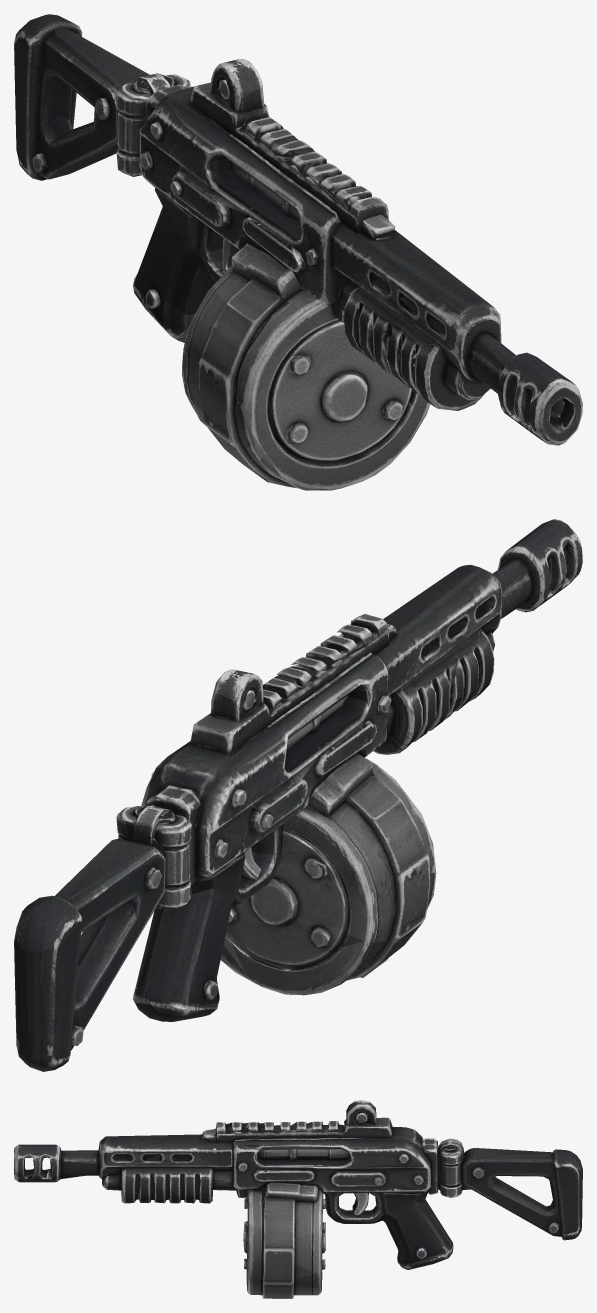
The model's file is gun_sweeper.glb.
The picture shows the model from 3 angles, top to bottom: view 1: azimuth 30°, elevation 25°; view 2: azimuth 150°, elevation 25°; view 3: azimuth 270°, elevation 25°; orthographic projection. The views are drawn at different scales.
Bounding box in the file's own units: 0.2906 × 0.4827 × 1.31.
Materials: 1 (1 with a texture image).
